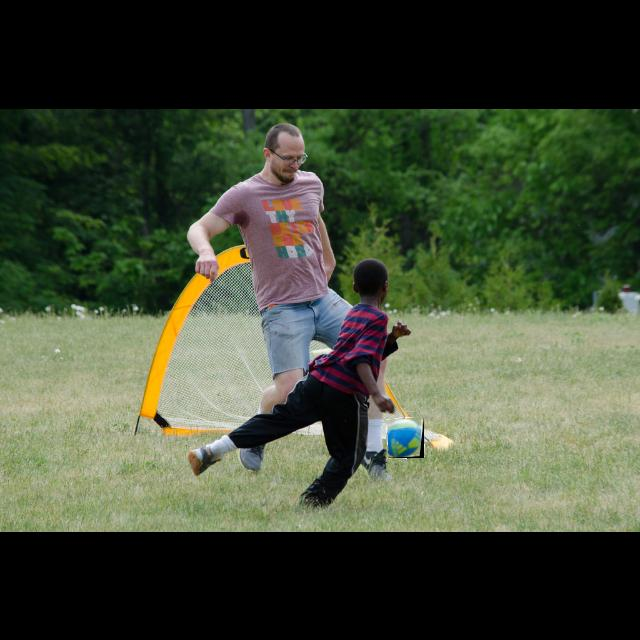Football: (388, 418, 424, 458)
